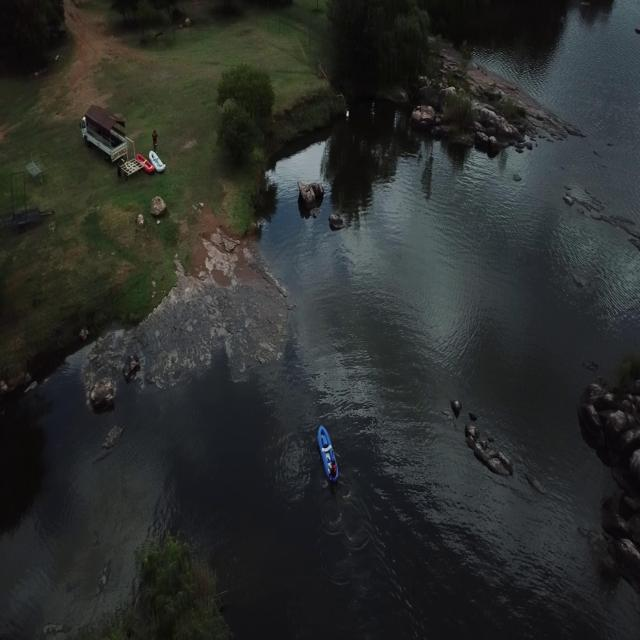kayak: (317, 424, 341, 486)
